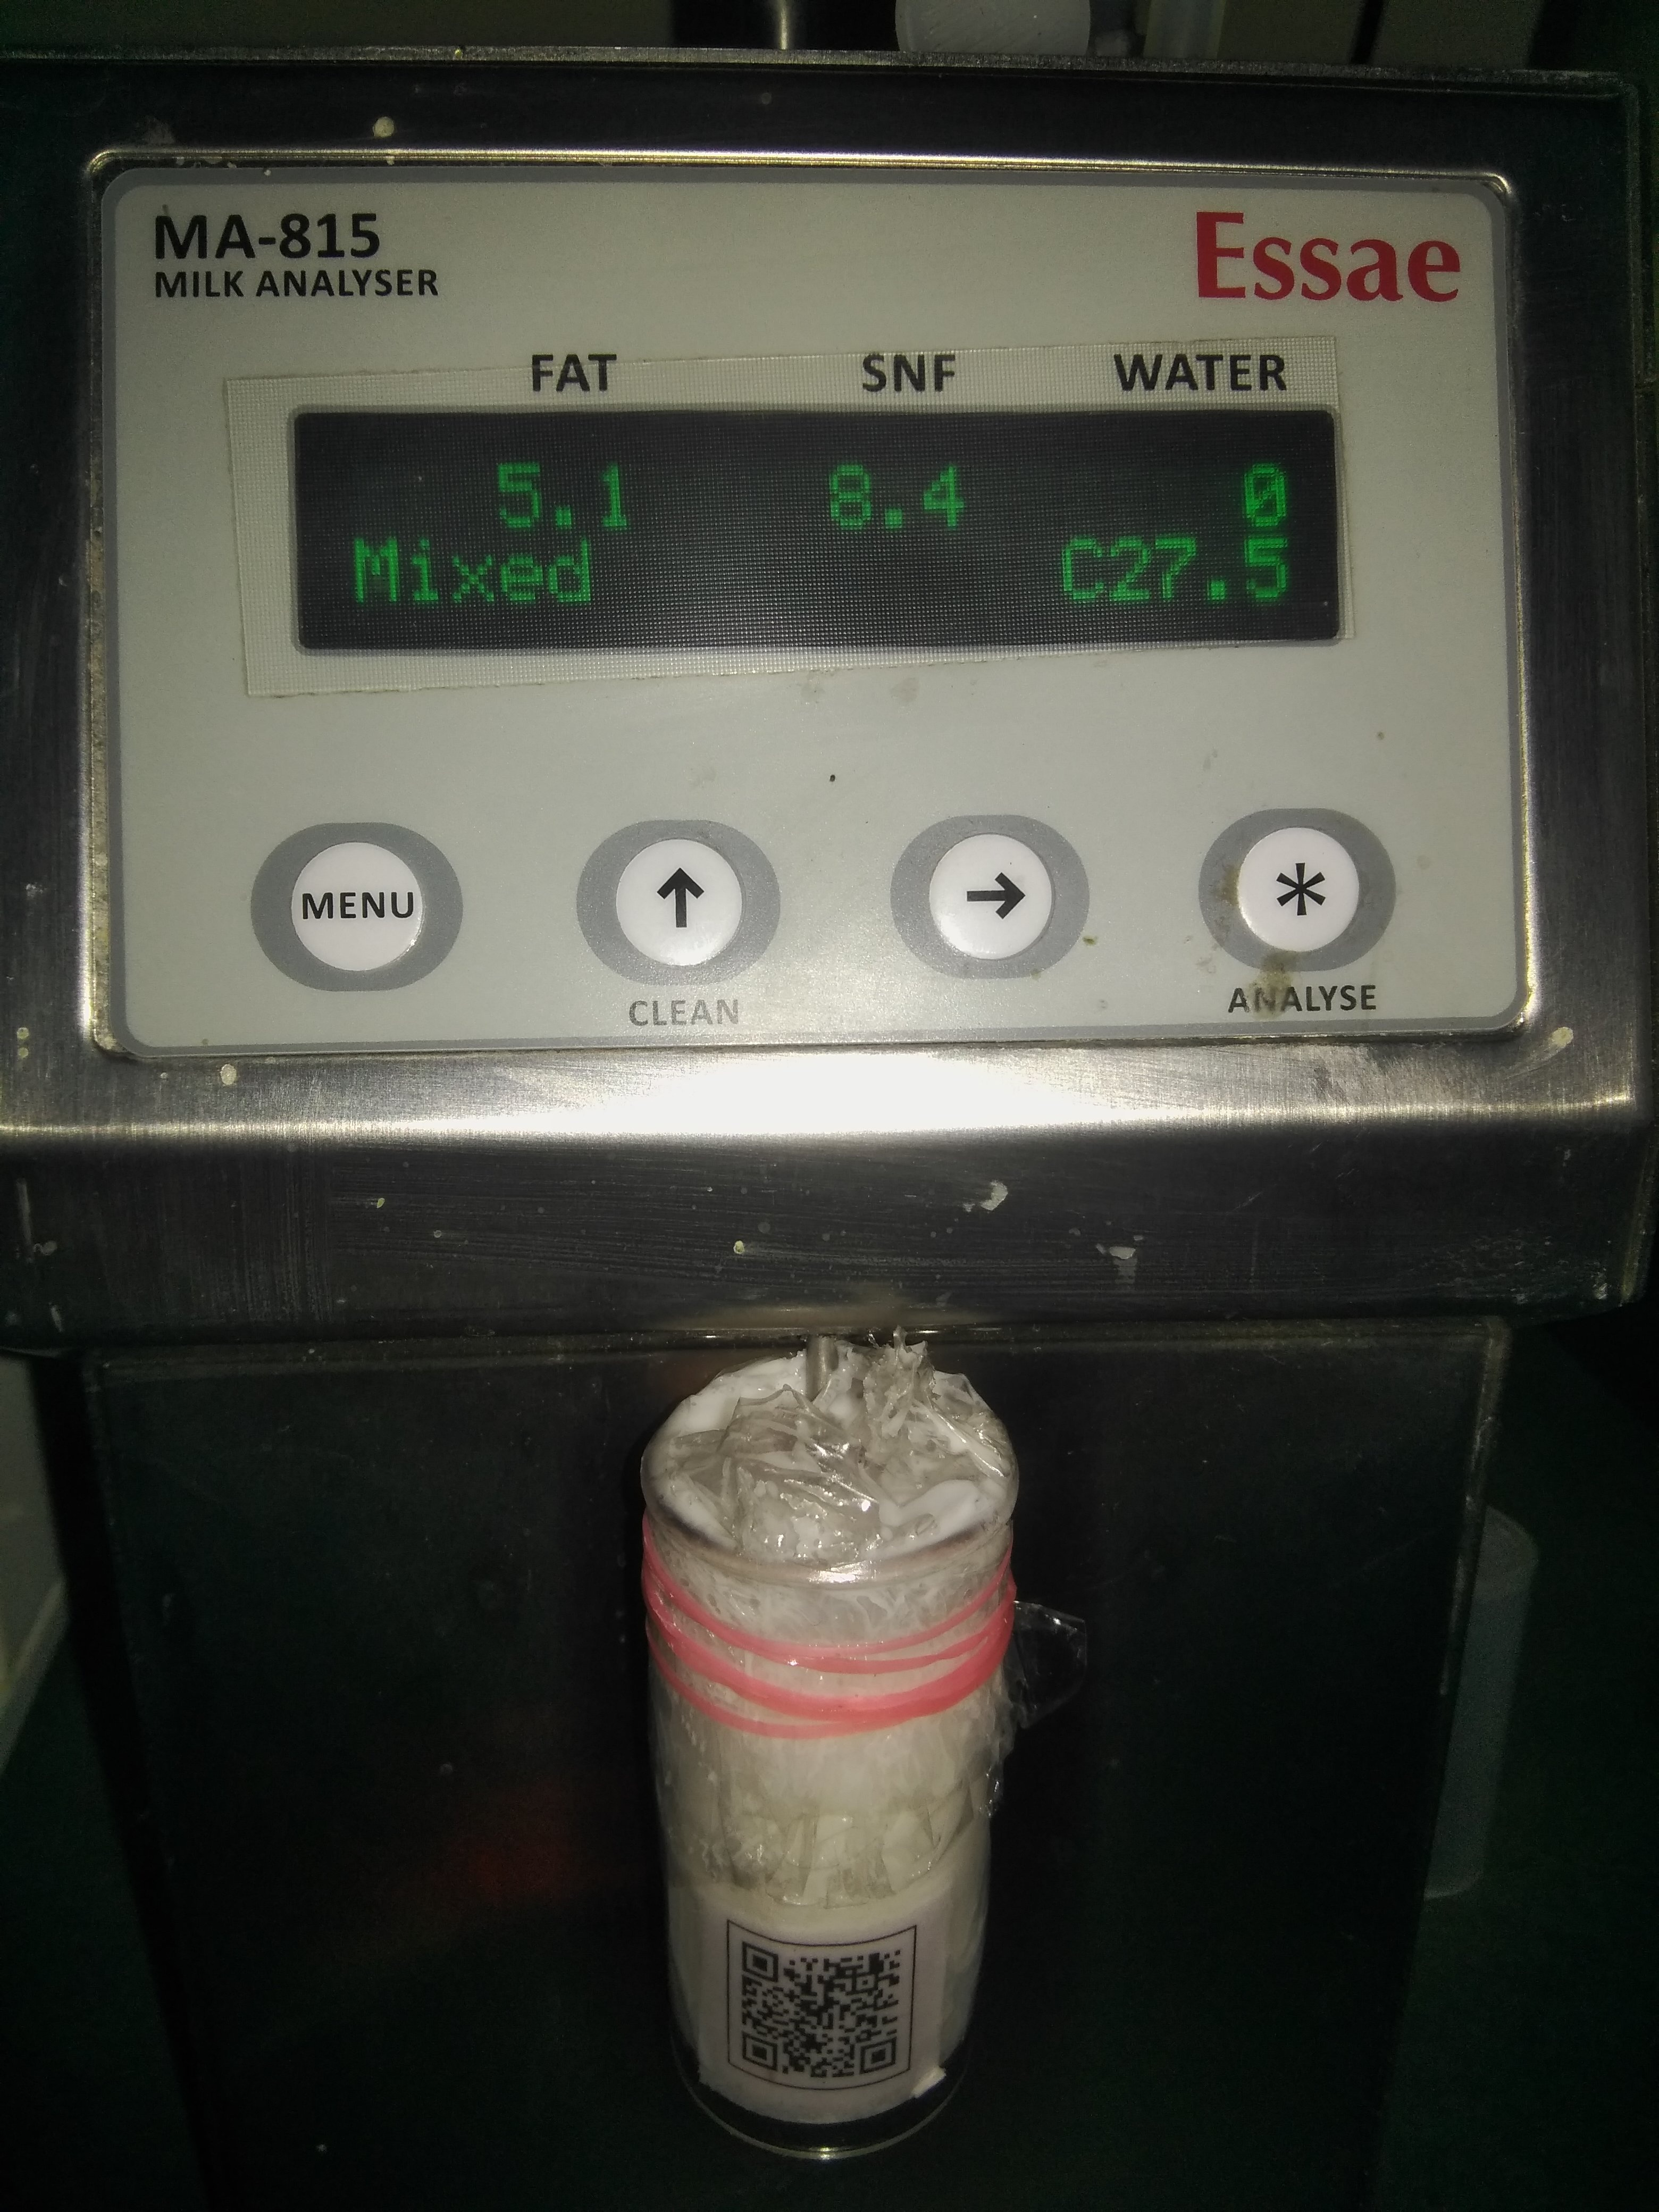lcd: (267, 387, 1391, 681)
qr: (708, 1904, 941, 2134)
